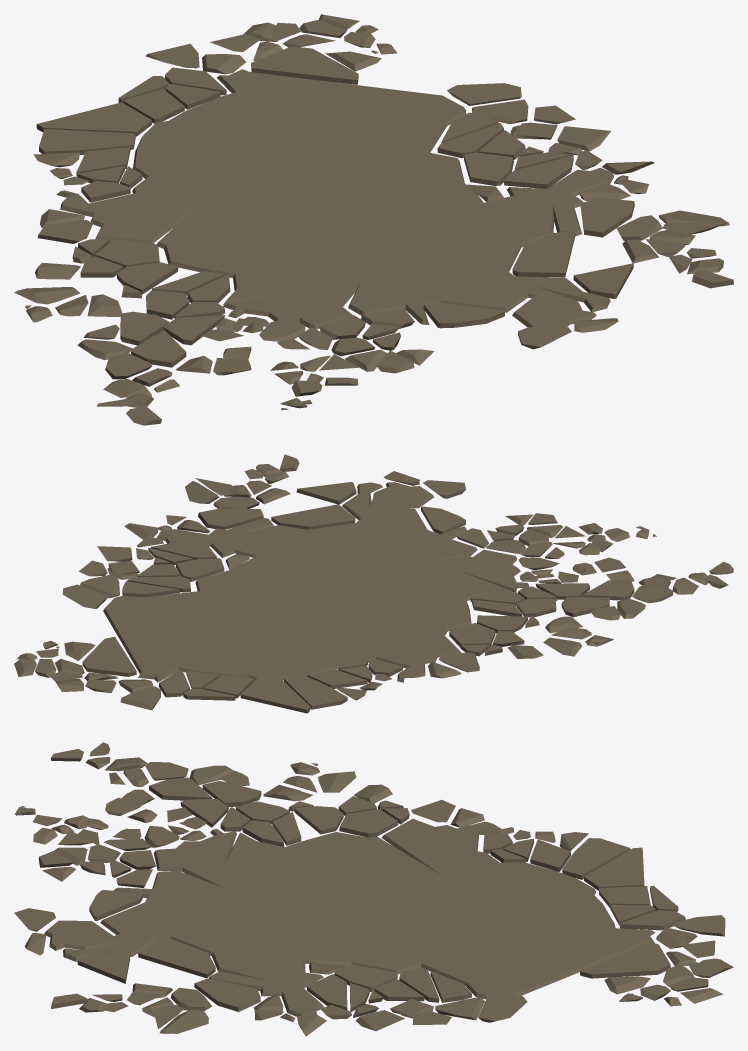
File: dixing4.FBX
The picture shows the model from 3 angles, top to bottom: view 1: azimuth 30°, elevation 25°; view 2: azimuth 150°, elevation 25°; view 3: azimuth 270°, elevation 25°; orthographic projection. The views are drawn at different scales.
Visible parts, largest first — view 1: Tarmac; view 2: Tarmac; view 3: Tarmac.
Boxes of the visible parts, x1,y1,x2,y2 form: Tarmac: (14, 14, 733, 425); Tarmac: (14, 454, 733, 713); Tarmac: (14, 742, 733, 1036).
Size of the model in its own units: 6.08 by 0.0419 by 6.36.
